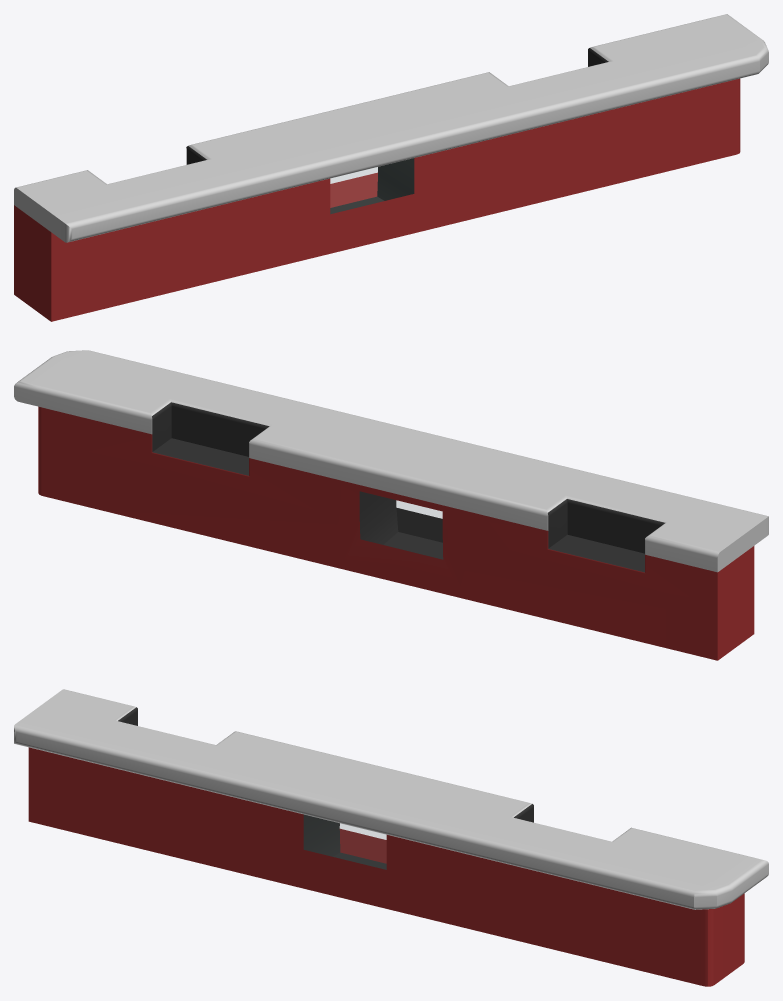
The model's file is SnackBar.fbx.
3 renders of one model, top to bottom at view 1: azimuth 30°, elevation 25°; view 2: azimuth 150°, elevation 25°; view 3: azimuth 330°, elevation 25°, orthographic.
Parts seen in each view (by area): view 1: pCube5; view 2: pCube5; view 3: pCube5.
Boxes of the visible parts, box(x1,y1,x2,y2) form: pCube5: box(14, 14, 768, 321); pCube5: box(14, 350, 768, 660); pCube5: box(14, 689, 768, 986).
Size of the model in its own units: 11.08 by 1.61 by 1.45.
